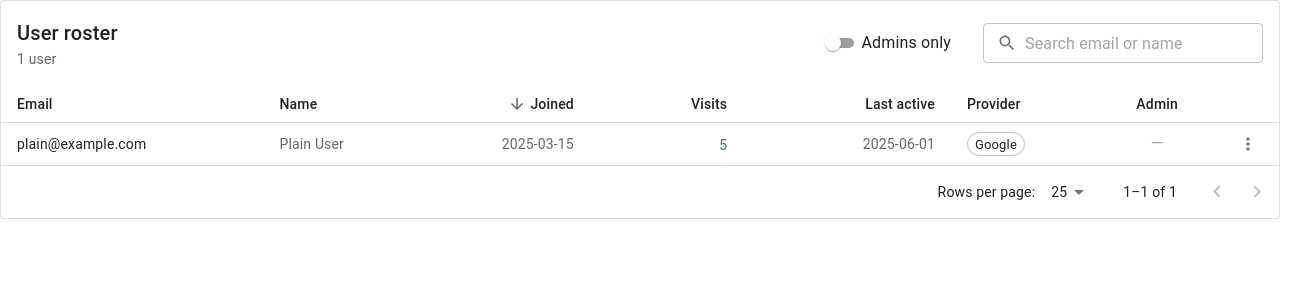
Test: UserRosterTable › surfaces server errors via an alert
Click the button named "Actions for plain@example.com": (1248, 144) left=1233, top=129, right=1263, bottom=159
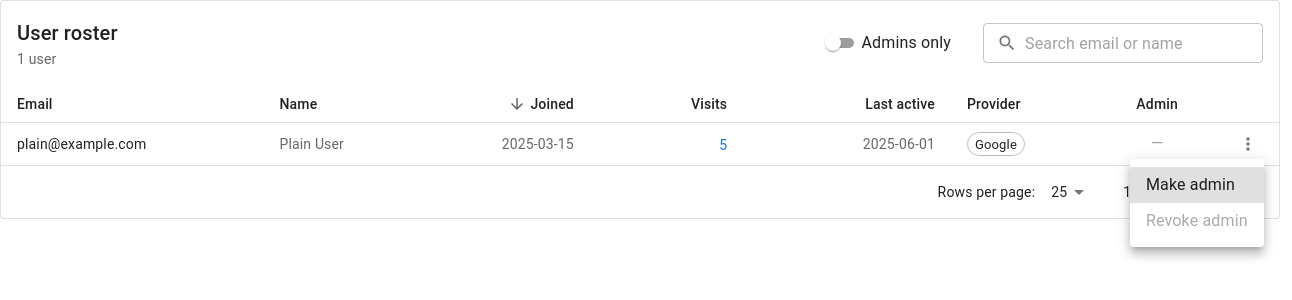
Click the menu item "Make admin": (1197, 185) left=1130, top=167, right=1264, bottom=203
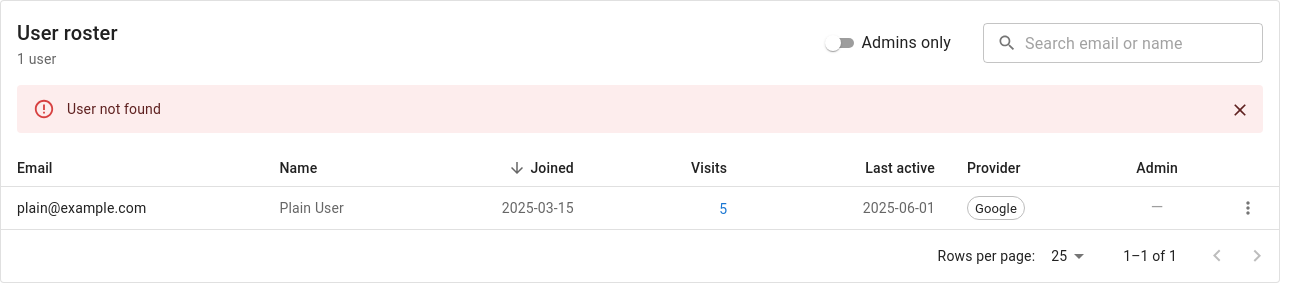
Result: the message "User not found" is shown at left=17, top=85, right=1263, bottom=133
Result: the message reads "User not found" at left=67, top=101, right=161, bottom=117
